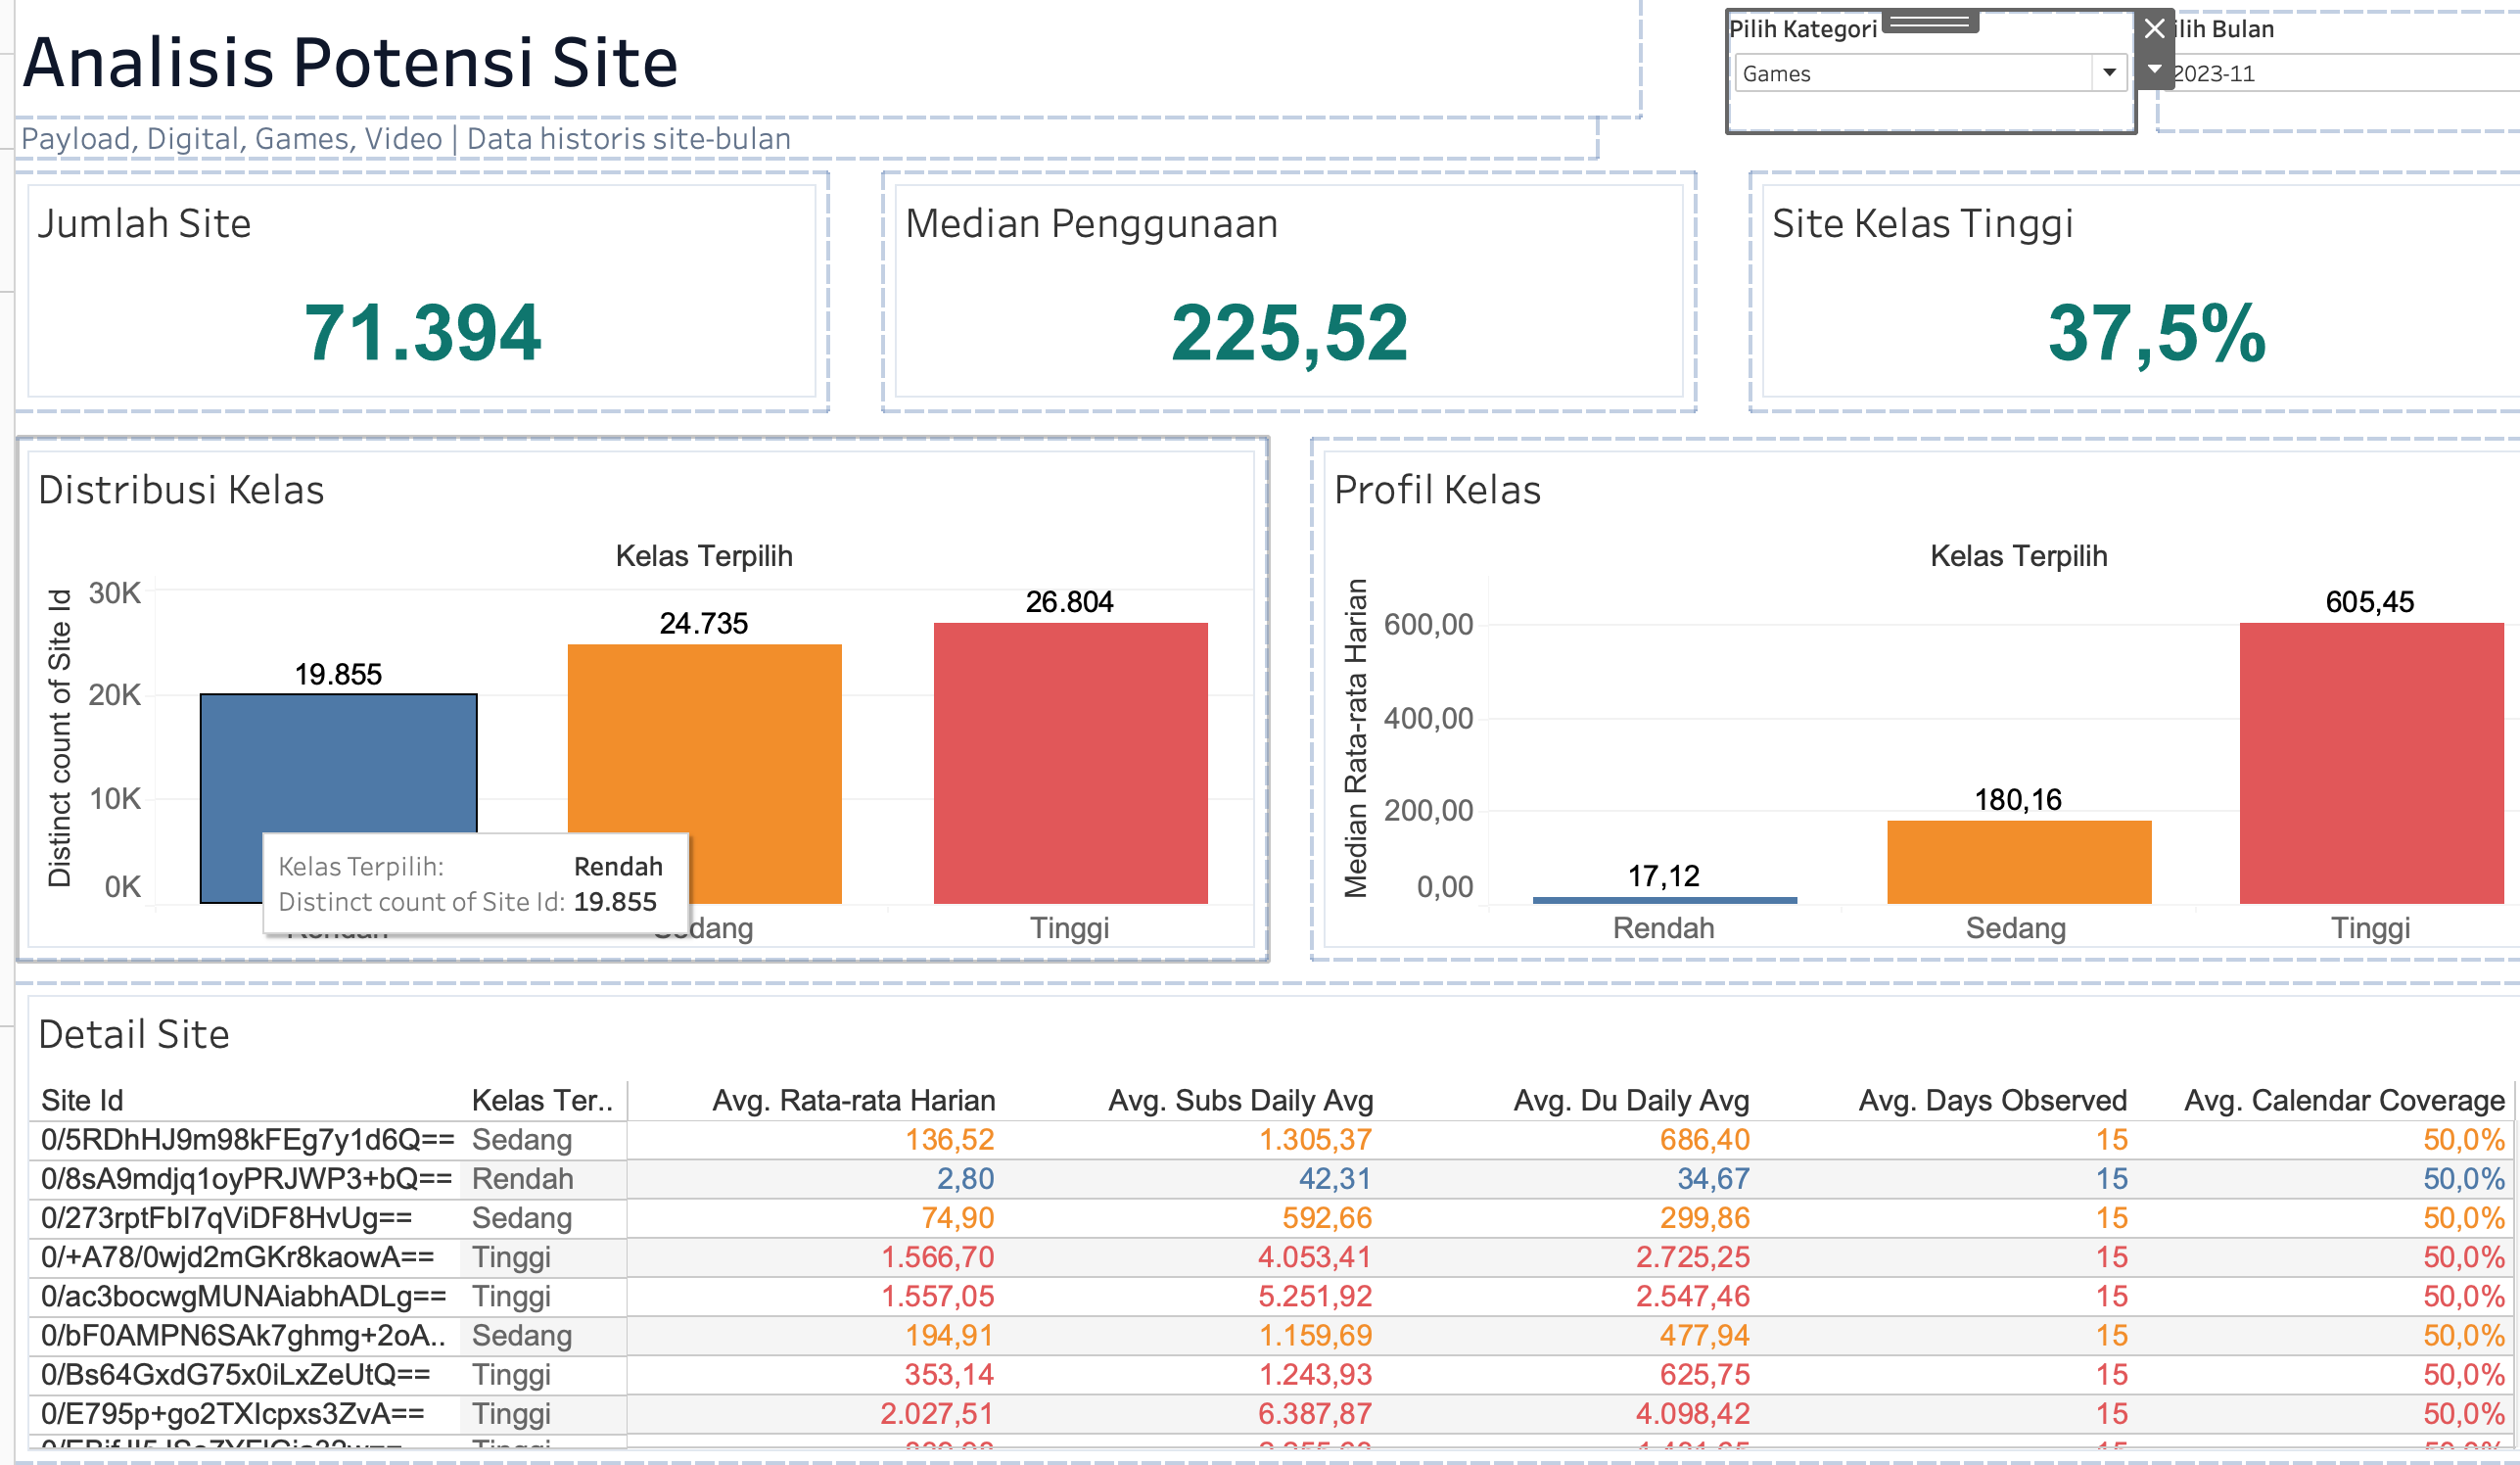

This screenshot's page, from the dashboard's own definition file:
{"tool":"tableau","page":{"name":"Dashboard Potensi Site","canvas":[1000,1000],"units":"permille","ordinal":0},"visuals":[{"type":"text","box":[16.7,13.3,616.7,72.2]},{"type":"parameter","param":"[Parameters].[Kategori]","box":[666.7,22.2,154.2,72.2]},{"type":"parameter","param":"[Parameters].[Bulan]","box":[829.2,22.2,154.2,72.2]},{"type":"text","box":[16.7,73.3,600,37.8]},{"type":"worksheet","title":"Jumlah Site","mark":"Text","box":[16.7,120,308.3,144.4]},{"type":"worksheet","title":"Median Penggunaan","mark":"Text","box":[345.8,120,308.3,144.4]},{"type":"worksheet","title":"Site Kelas Tinggi","mark":"Text","box":[675,120,308.3,144.4]},{"type":"worksheet","title":"Distribusi Kelas","mark":"Bar","rows":["site_id"],"cols":["Kelas"],"box":[16.7,282.2,475,316.7]},{"type":"worksheet","title":"Profil Kelas","mark":"Bar","rows":["Nilai"],"cols":["Kelas"],"box":[508.3,282.2,475,316.7]},{"type":"worksheet","title":"Detail Site","mark":"Text","rows":["site_id","Kelas"],"box":[16.7,613.3,966.7,292.2]},{"type":"text","box":[16.7,915.6,966.7,72.2]}]}

Visuals, with their boxes on the dashboard's canvas, which has no fixed pixel size, in thousandths of its width and height (x1, y1, x2, y2). These are canvas units, not pixel positions in the 2520x1465 screenshot, which may show the page scaled, cropped or inside an application window:
text: left=17, top=13, right=633, bottom=86
parameter: left=667, top=22, right=821, bottom=94
parameter: left=829, top=22, right=983, bottom=94
text: left=17, top=73, right=617, bottom=111
"Jumlah Site" worksheet (Text marks): left=17, top=120, right=325, bottom=264
"Median Penggunaan" worksheet (Text marks): left=346, top=120, right=654, bottom=264
"Site Kelas Tinggi" worksheet (Text marks): left=675, top=120, right=983, bottom=264
"Distribusi Kelas" worksheet (Bar marks): left=17, top=282, right=492, bottom=599
"Profil Kelas" worksheet (Bar marks): left=508, top=282, right=983, bottom=599
"Detail Site" worksheet (Text marks): left=17, top=613, right=983, bottom=906
text: left=17, top=916, right=983, bottom=988
